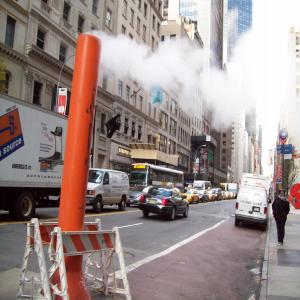Vehicle-registration-plate: (253, 208, 261, 214), (131, 200, 134, 203)
